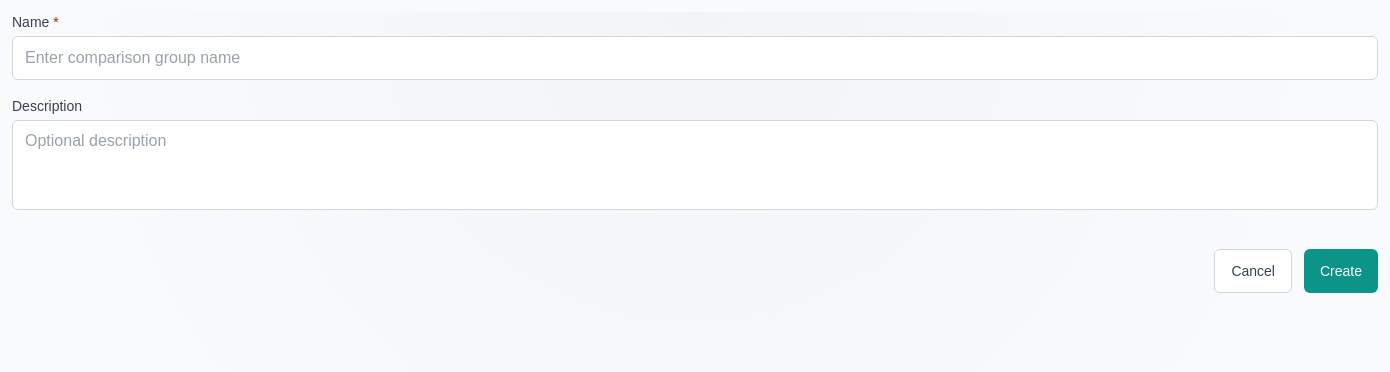
Test: ComparisonForm › error handling › should display error message on submission failure
In the field labelled "Name *": (695, 58) top-left (12, 36), bottom-right (1378, 80), type "Test"
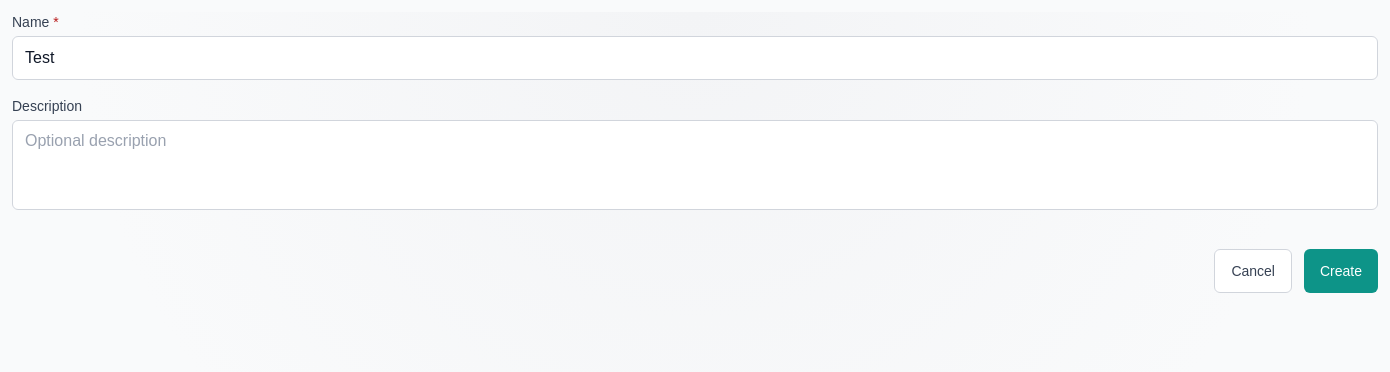
Submit the form "Create"
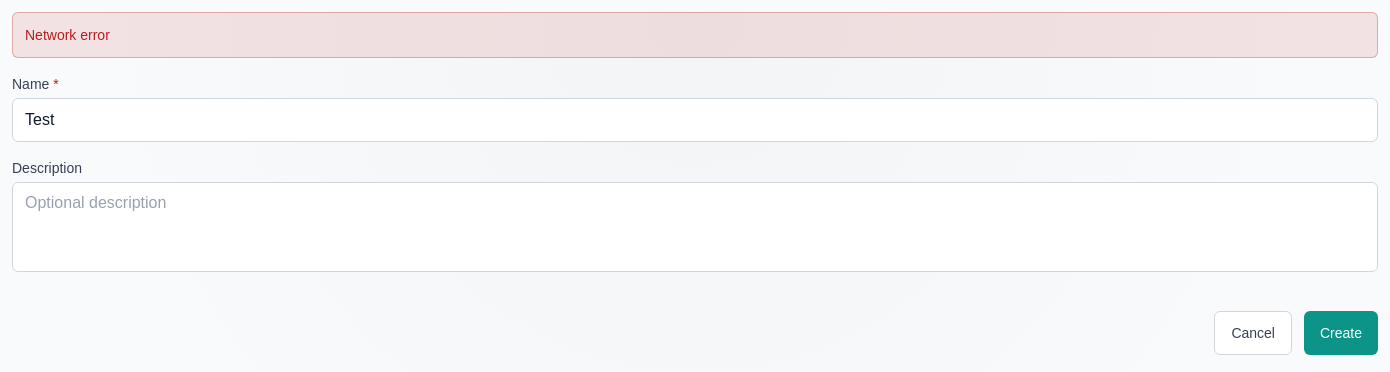
Now the text "Network error" is shown, box top-left (25, 27), bottom-right (110, 43)
